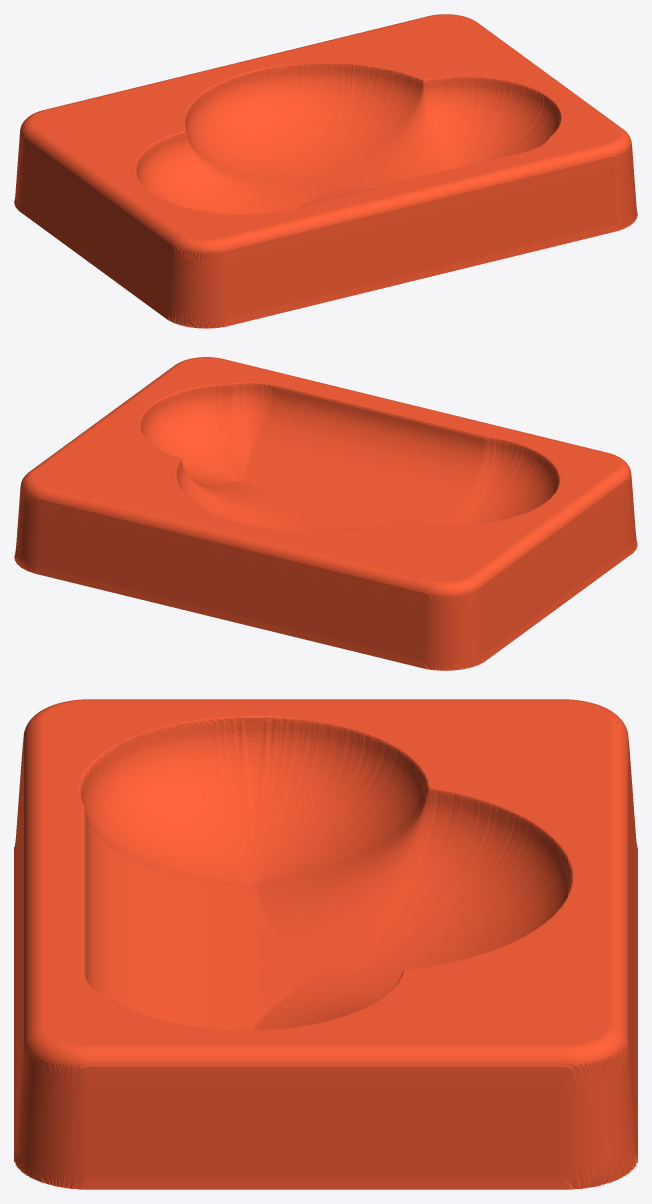
The model's file is mold.glb.
The picture shows the model from 3 angles, top to bottom: view 1: azimuth 30°, elevation 25°; view 2: azimuth 150°, elevation 25°; view 3: azimuth 270°, elevation 25°; orthographic projection. The views are drawn at different scales.
Parts seen in each view (by area): view 1: geometry_0; view 2: geometry_0; view 3: geometry_0.
Part boxes in pixels (x1,y1,x2,y2): geometry_0: [14, 14, 637, 328]; geometry_0: [14, 357, 637, 670]; geometry_0: [14, 699, 637, 1189].
Bounding box in the file's own units: 0.105 × 0.0175 × 0.075.
